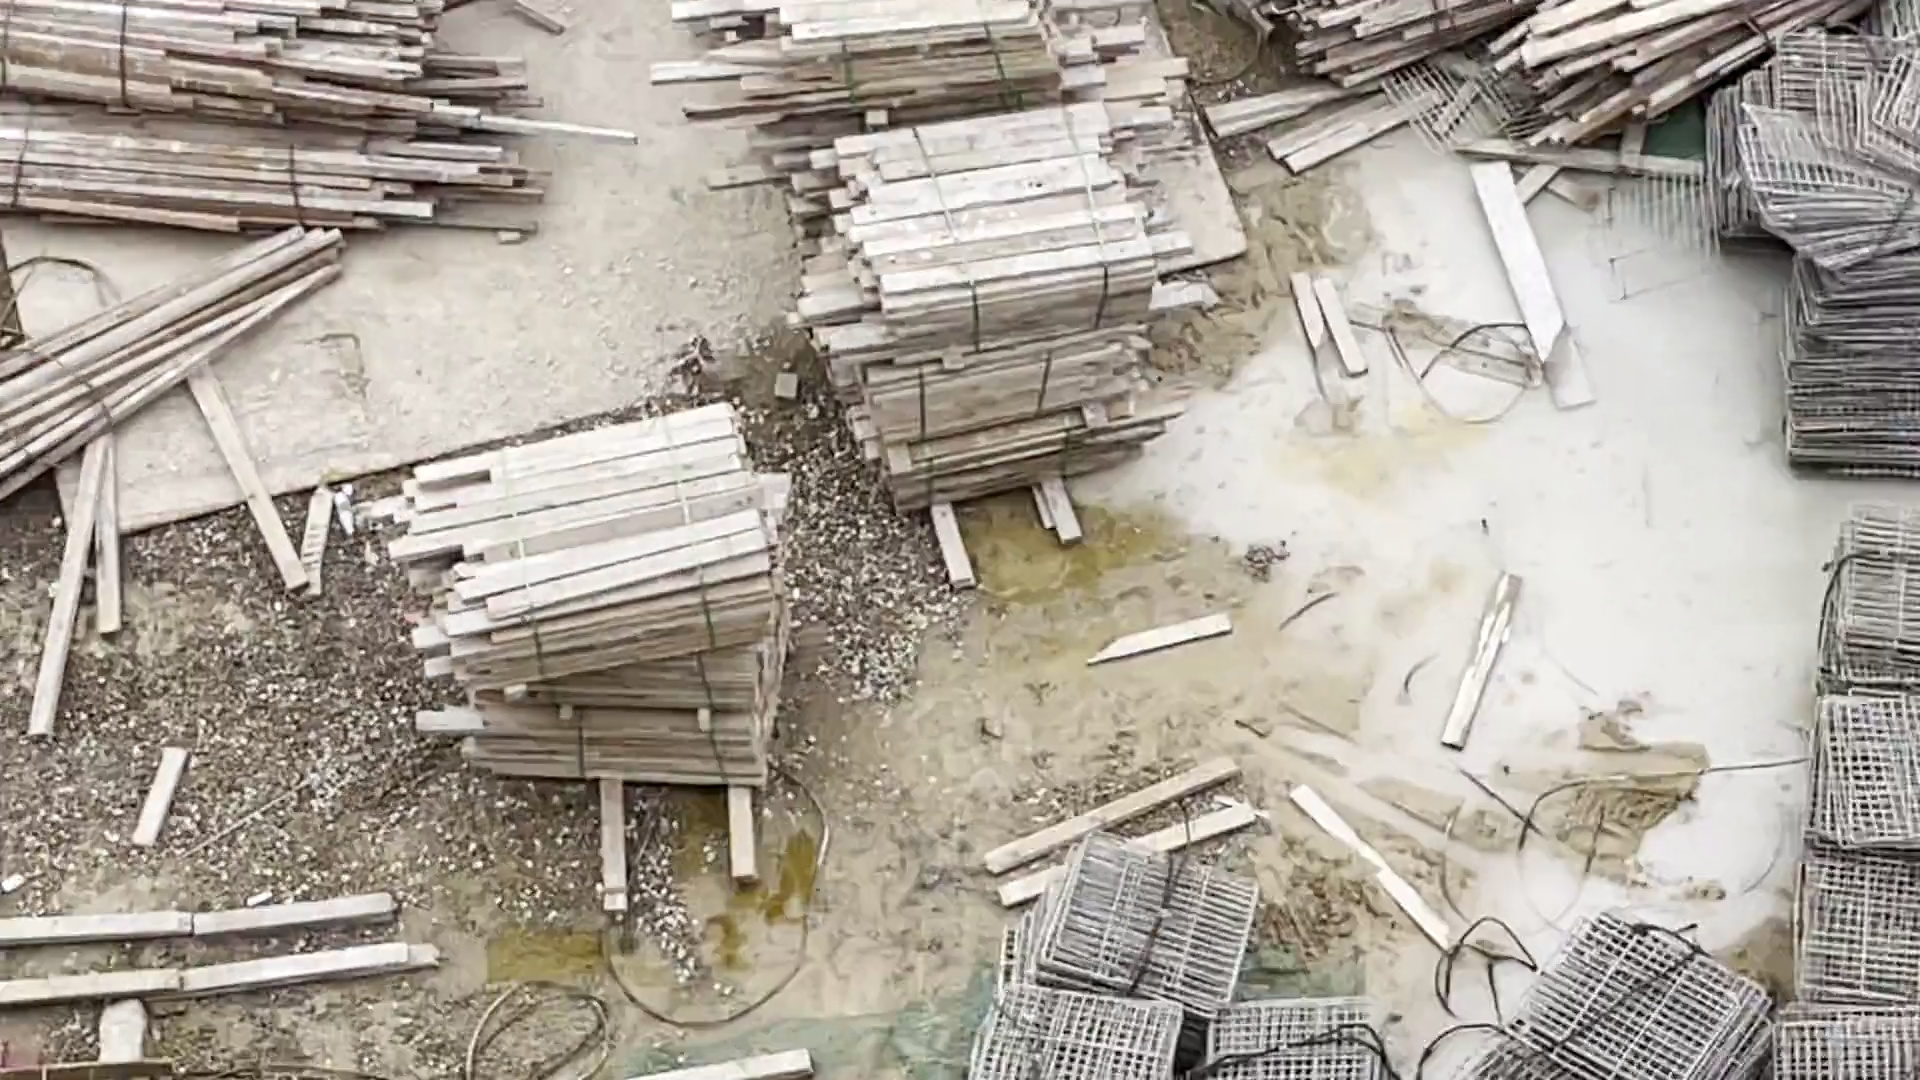wood: (418, 436, 791, 786), (3, 7, 538, 236), (829, 120, 1135, 485), (1273, 3, 1826, 164), (1, 220, 338, 484), (665, 5, 1117, 121)
